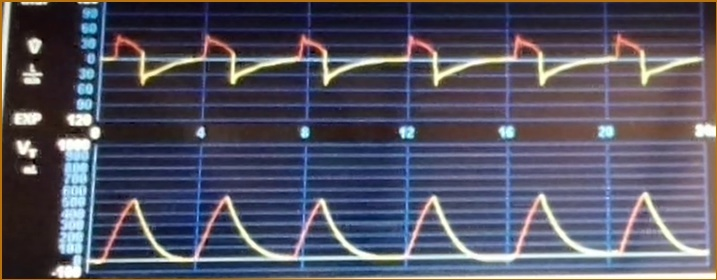Normal Flow: (105, 17, 703, 108)
Normal Volume: (93, 176, 708, 271)
